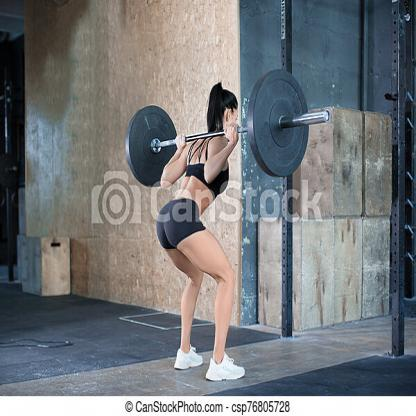Barbell: (245, 65, 313, 182)
